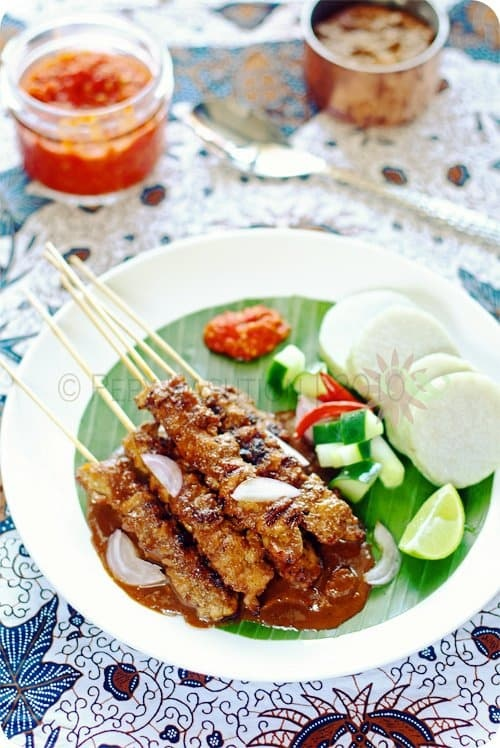sate_madura: (2, 242, 335, 638)
